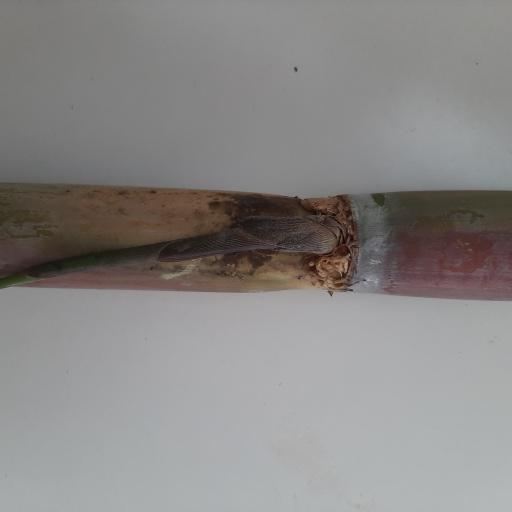Sprouted_Bud: (254, 215, 346, 255)
